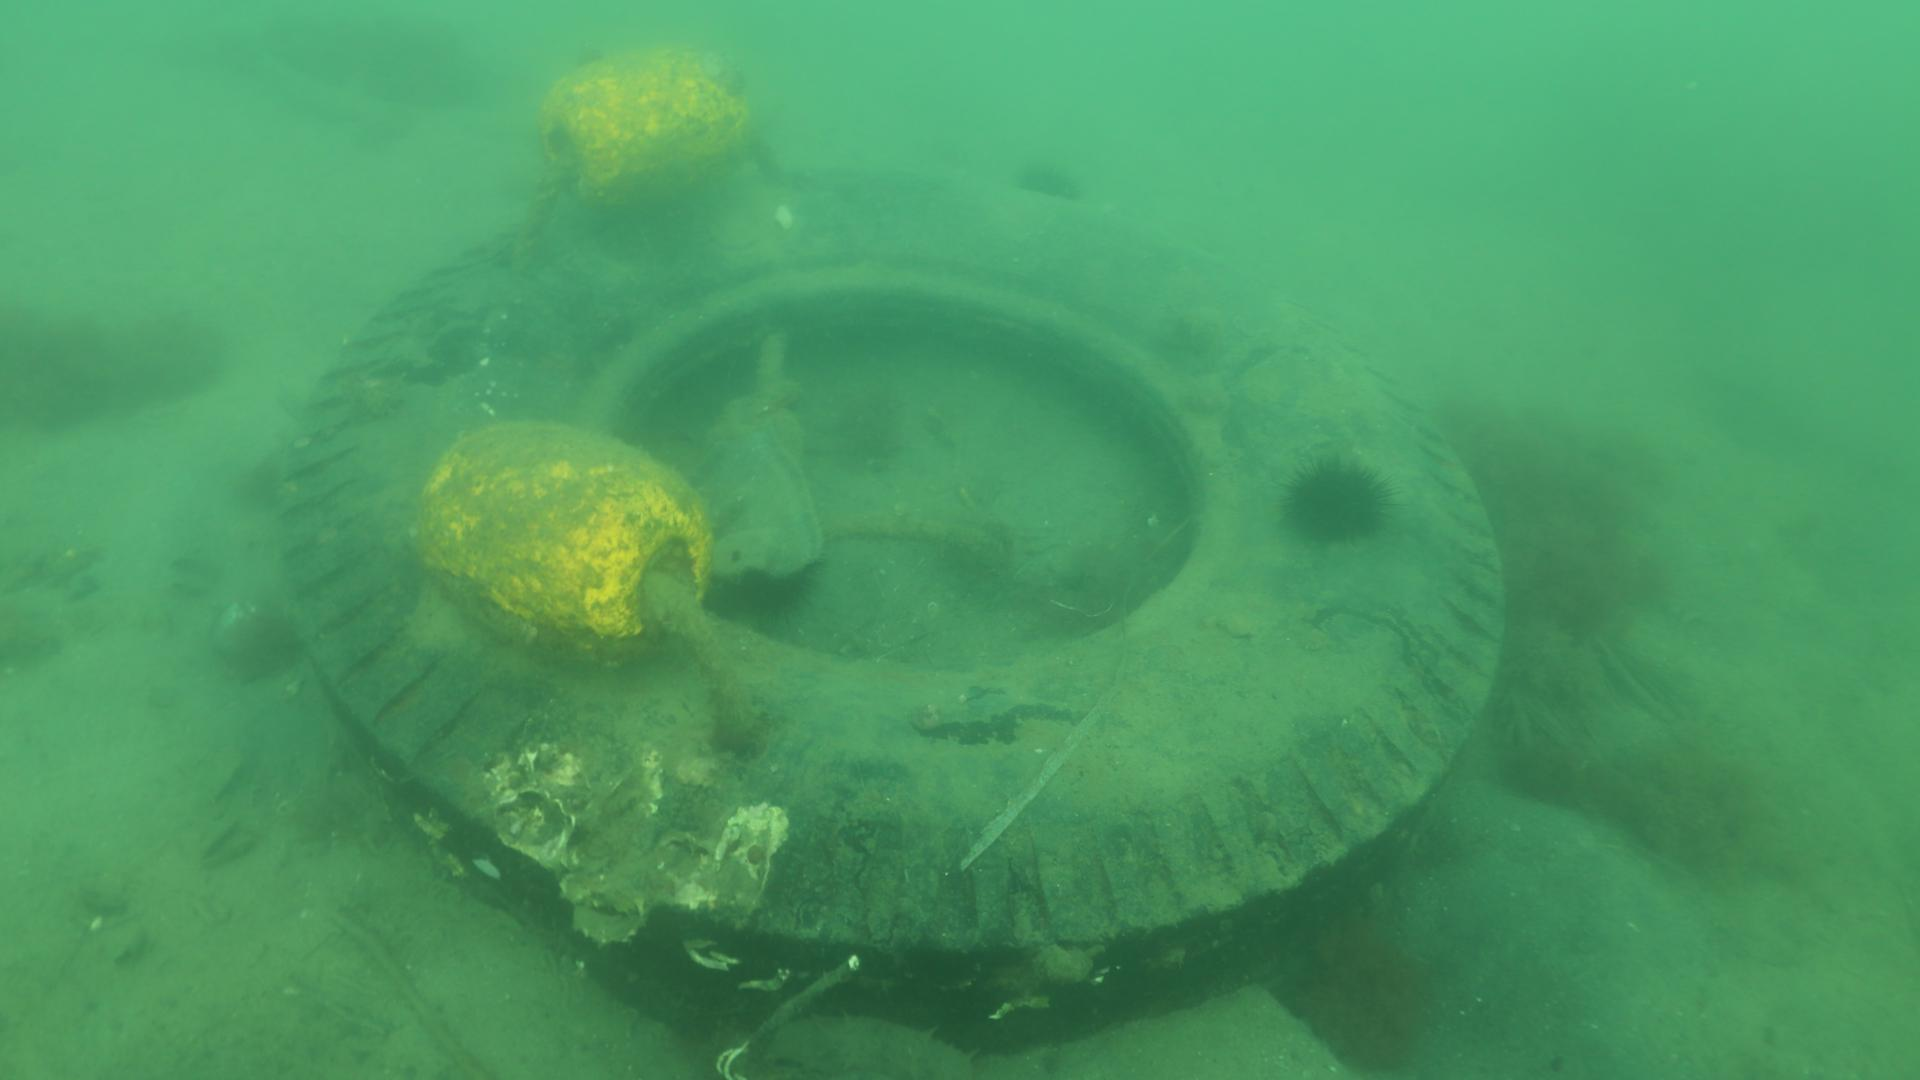tire: (278, 167, 1506, 1059)
